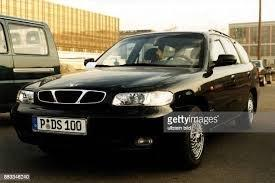license-plates: (32, 119, 87, 134)
